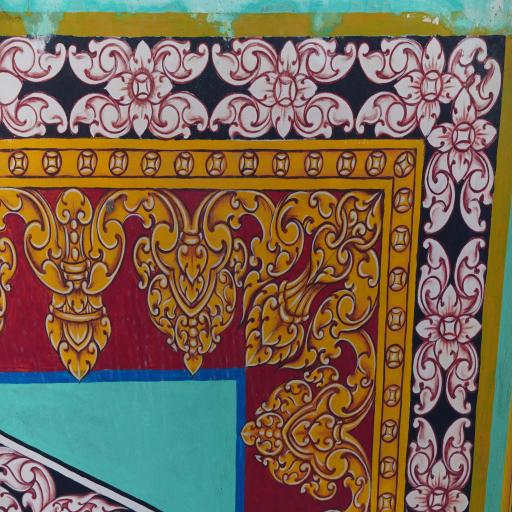hoa: (394, 30, 466, 144), (247, 34, 322, 140), (105, 31, 178, 139), (425, 84, 497, 189), (416, 276, 484, 374), (406, 458, 471, 512)
la: (0, 179, 142, 382), (242, 183, 376, 377), (239, 324, 377, 512), (130, 186, 251, 376), (454, 144, 494, 238), (2, 30, 66, 88), (67, 36, 133, 86), (357, 37, 423, 86), (210, 37, 278, 84), (292, 36, 360, 83), (419, 146, 455, 234), (454, 236, 490, 324), (1, 90, 68, 137), (296, 84, 355, 137), (68, 88, 130, 138), (355, 86, 413, 139), (151, 41, 213, 90), (212, 88, 272, 138), (152, 93, 210, 140), (408, 338, 442, 416), (447, 339, 478, 421), (418, 232, 446, 316), (443, 411, 471, 482), (448, 36, 486, 87), (469, 55, 502, 111), (405, 415, 433, 479)
